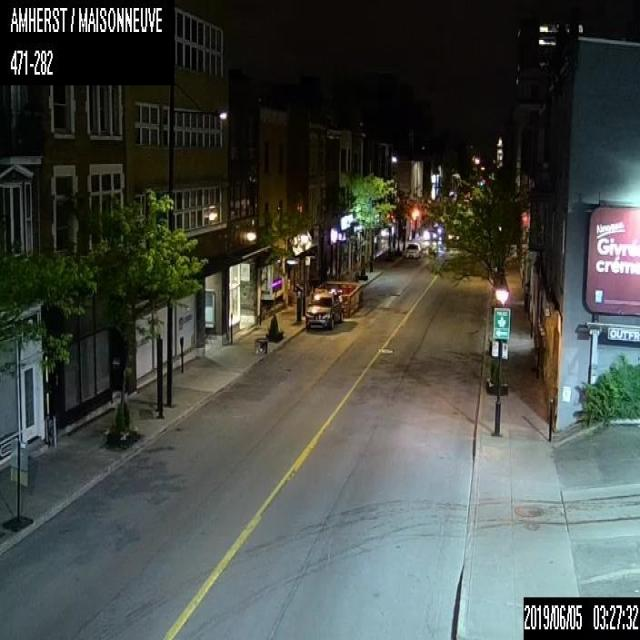construction: (3, 440, 33, 532)
pedestrian: (391, 232, 396, 254)
vehicle: (303, 290, 343, 330), (404, 240, 420, 259)
